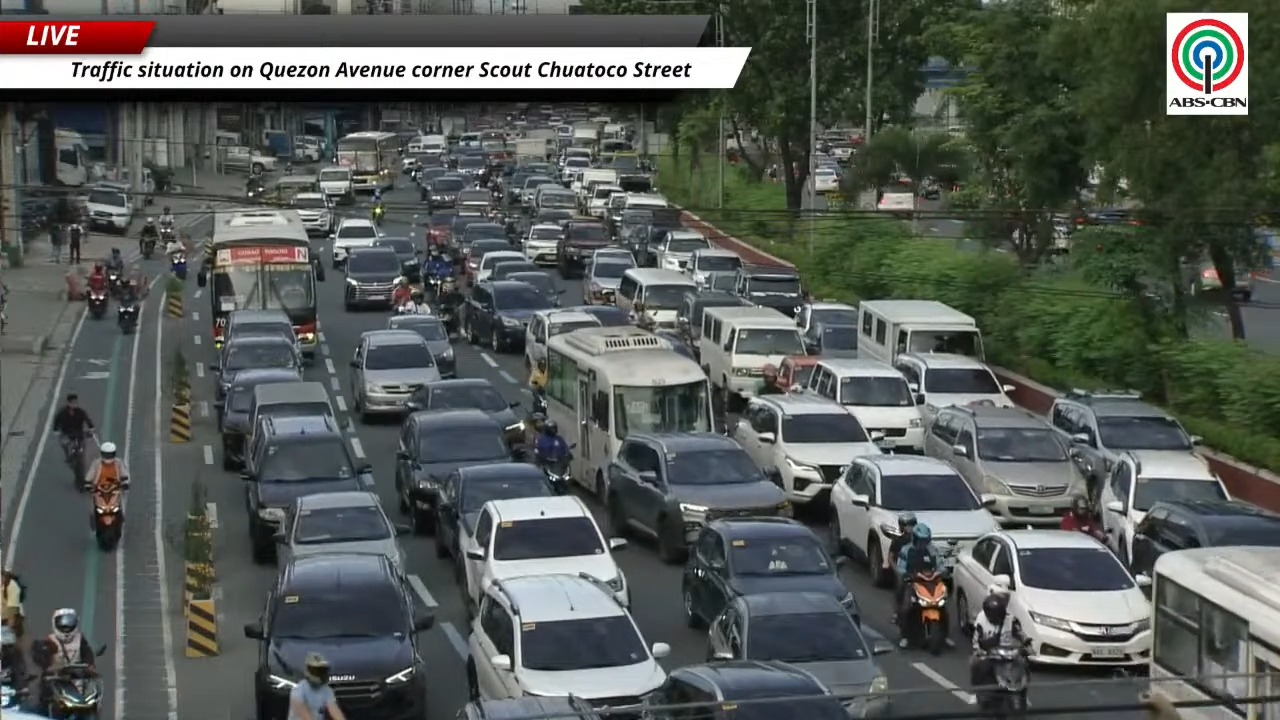bus: (545, 327, 712, 498), (1149, 546, 1279, 719), (197, 207, 323, 358), (336, 131, 400, 191)
car: (244, 554, 433, 719), (466, 572, 669, 711), (953, 529, 1151, 666), (605, 433, 791, 562), (707, 591, 890, 718), (829, 455, 999, 585), (458, 495, 629, 611), (682, 517, 860, 627), (924, 406, 1086, 525), (241, 416, 372, 562), (730, 393, 883, 504), (1048, 390, 1199, 491), (1098, 450, 1229, 563), (394, 409, 511, 532), (435, 462, 554, 566), (643, 660, 849, 719), (802, 356, 924, 453), (1130, 499, 1279, 574), (277, 491, 409, 569), (215, 368, 300, 470), (893, 353, 1014, 423), (350, 329, 440, 420), (407, 378, 523, 444), (462, 280, 552, 352), (210, 335, 301, 400), (524, 309, 600, 368), (386, 315, 456, 378), (676, 289, 744, 350), (733, 265, 805, 317), (344, 246, 401, 310), (456, 695, 601, 719), (557, 218, 609, 279), (582, 250, 634, 304), (651, 229, 711, 271), (222, 309, 296, 343), (332, 217, 380, 269), (684, 247, 741, 287), (461, 235, 510, 280), (373, 236, 420, 281), (506, 271, 563, 306), (796, 301, 858, 332), (473, 245, 524, 281), (447, 211, 487, 256), (804, 323, 856, 357), (522, 224, 563, 264), (427, 174, 467, 211), (652, 330, 697, 361), (777, 356, 818, 390), (566, 305, 632, 326), (1183, 259, 1222, 294), (488, 258, 541, 279), (424, 211, 455, 246), (521, 174, 557, 204), (591, 245, 634, 266), (702, 271, 736, 292), (811, 168, 839, 193), (458, 188, 492, 208)
motorcycle: (898, 569, 948, 654), (976, 642, 1028, 719), (43, 664, 103, 719), (0, 624, 32, 710), (92, 486, 123, 551), (539, 452, 570, 494), (437, 303, 458, 336), (117, 303, 139, 333), (87, 291, 108, 319), (170, 252, 187, 280), (395, 302, 431, 315), (531, 389, 546, 416), (107, 268, 121, 295), (141, 236, 156, 259), (246, 182, 265, 199), (370, 204, 384, 224)
truck: (220, 145, 276, 173), (514, 138, 548, 160), (571, 125, 599, 151)
